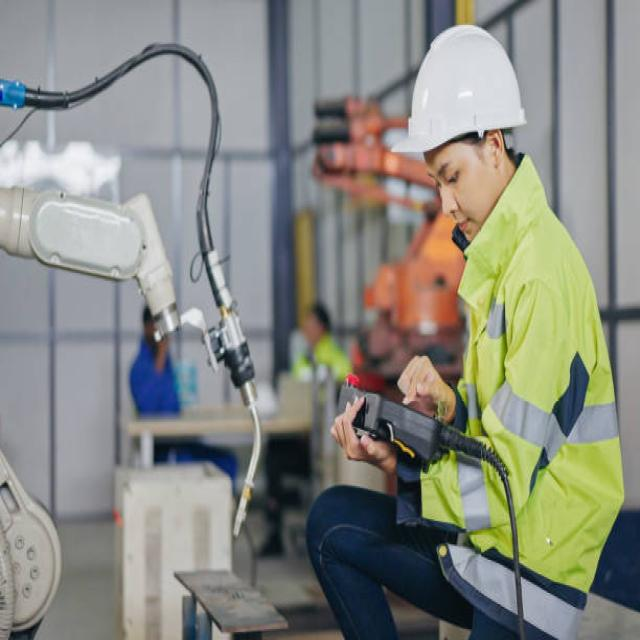Robotic-arm: (0, 164, 184, 640)
